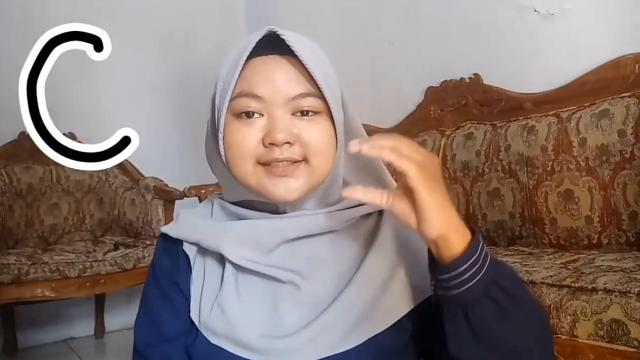C: (338, 130, 458, 242)
